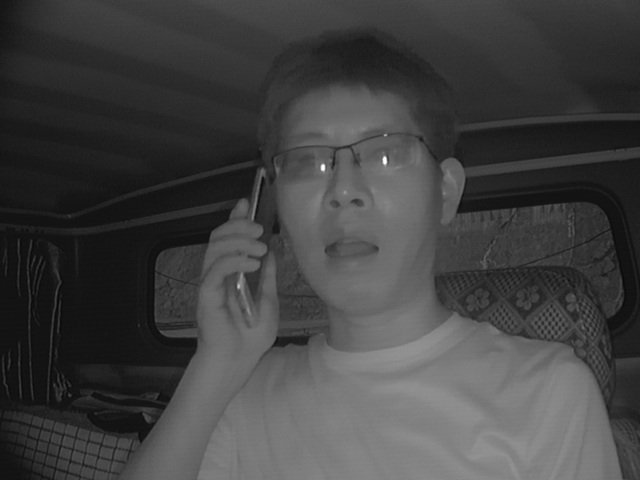hand: (187, 203, 286, 357)
